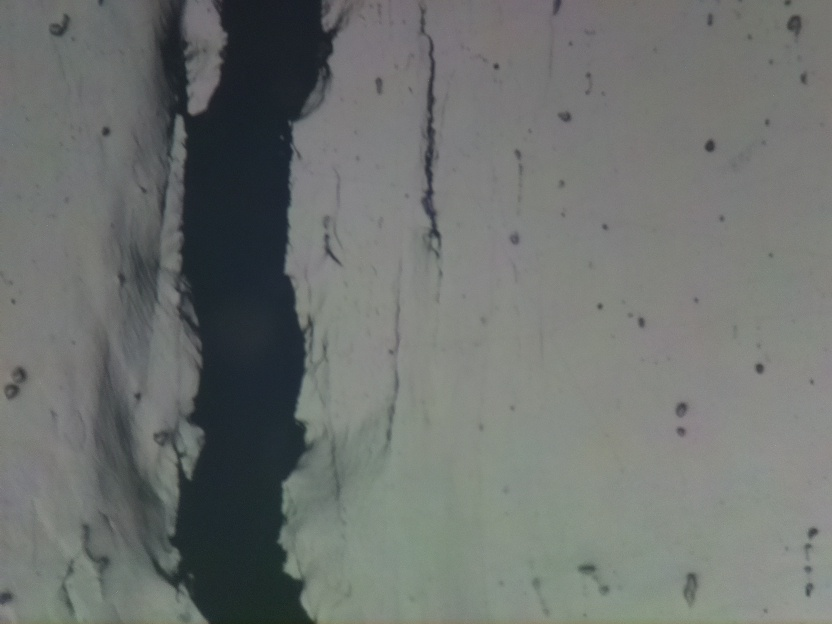crack: (168, 1, 334, 624), (409, 0, 453, 273)
